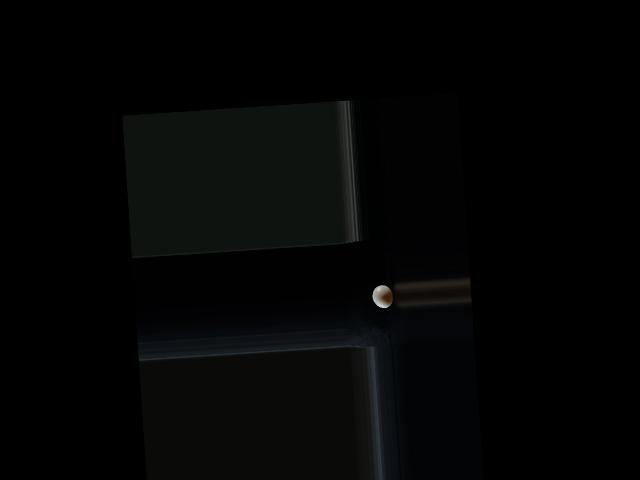egg: (371, 284, 394, 309)
